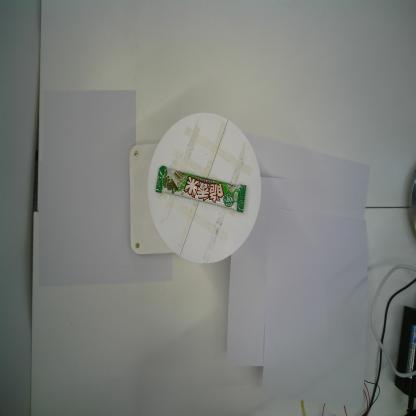Chocolate: (155, 166, 247, 212)
